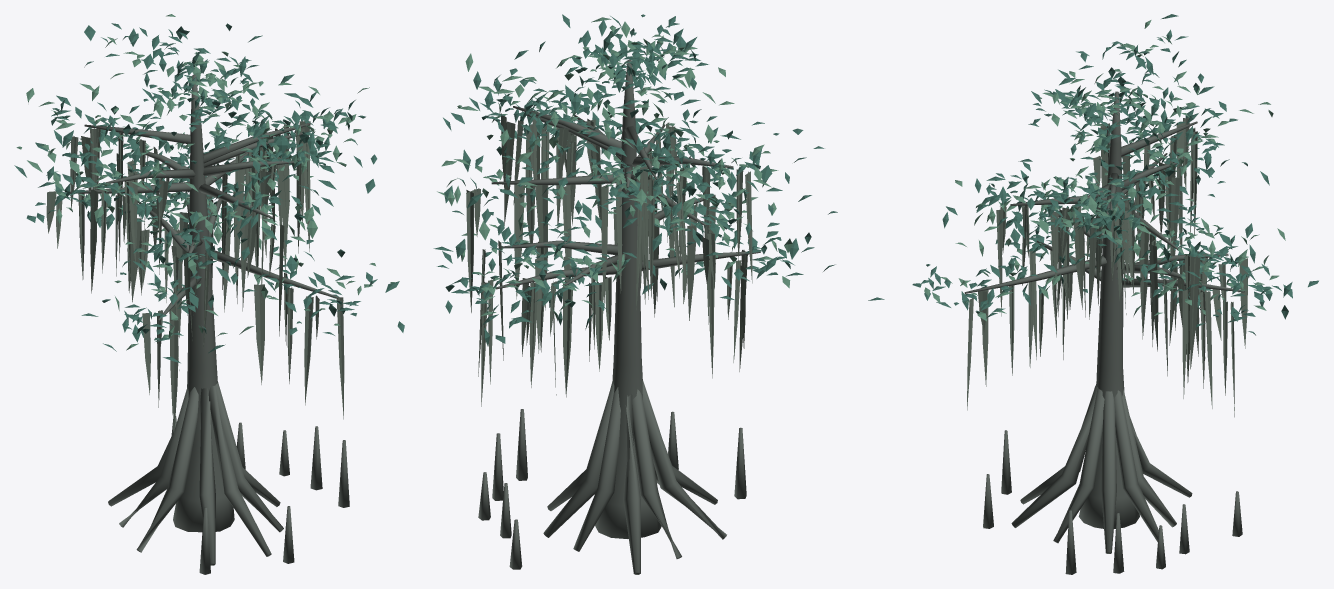
File: cypress.glb
3 views of the same model, side by side, from view 1: azimuth 30°, elevation 25°; view 2: azimuth 150°, elevation 25°; view 3: azimuth 270°, elevation 25° (orthographic). The views are drawn at different scales.
Visible parts, largest first — view 1: Moonwater cypress leaves, Moonwater cypress branches, Moonwater cypress moss; view 2: Moonwater cypress leaves, Moonwater cypress branches, Moonwater cypress moss; view 3: Moonwater cypress leaves, Moonwater cypress branches, Moonwater cypress moss.
Boxes of the visible parts, x1,y1,x2,y2 form: Moonwater cypress leaves: [14, 14, 404, 363]; Moonwater cypress branches: [70, 74, 349, 574]; Moonwater cypress moss: [46, 121, 344, 432]; Moonwater cypress leaves: [433, 14, 837, 346]; Moonwater cypress branches: [478, 59, 760, 574]; Moonwater cypress moss: [466, 113, 752, 406]; Moonwater cypress leaves: [868, 14, 1318, 335]; Moonwater cypress branches: [964, 91, 1244, 574]; Moonwater cypress moss: [967, 117, 1247, 417].
Bounding box in the file's own units: 7.77 × 11.61 × 10.1.
